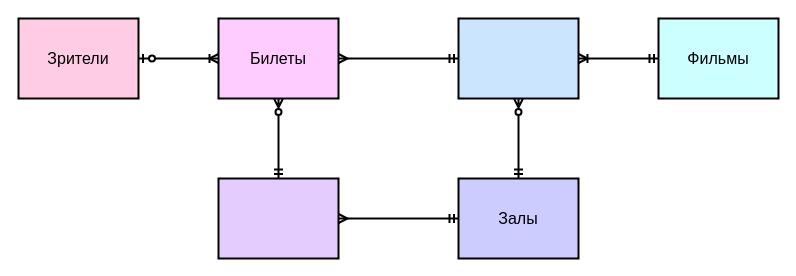
Some shapes in this 796 by 276 pixel diagram are drawn without their labels. The box of each missing label's shape, as (x1, y1, x2, y2) in pixels:
Места: (217, 177, 339, 259)
Сеансы: (457, 17, 579, 99)
